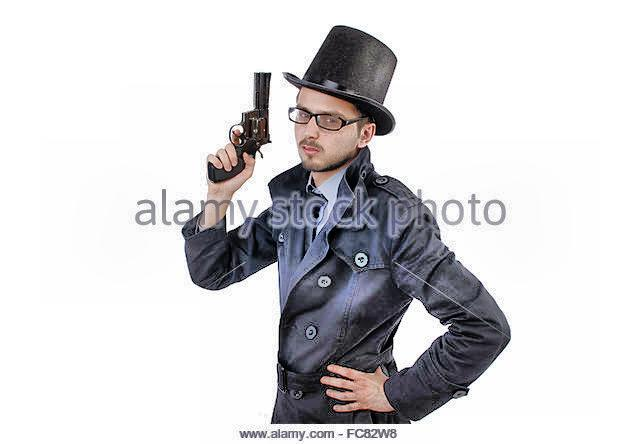pistol: (204, 70, 276, 182)
